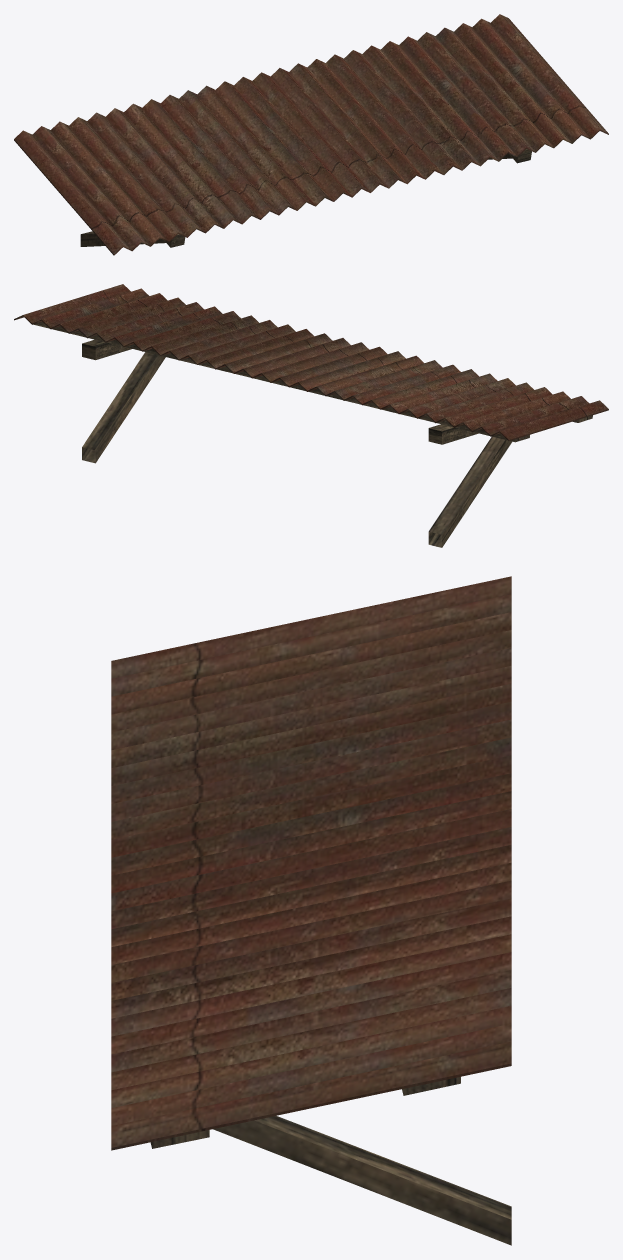
Rendered from roof_small_hr_1.obj.
3 renders of one model, top to bottom at view 1: azimuth 30°, elevation 25°; view 2: azimuth 150°, elevation 25°; view 3: azimuth 270°, elevation 25°, orthographic. The views are drawn at different scales.
Parts seen in each view (by area): view 1: roof_small_hr_1; view 2: roof_small_hr_1; view 3: roof_small_hr_1.
Part boxes in pixels (box(x1,y1,x2,y2)): roof_small_hr_1: box(14, 14, 608, 255); roof_small_hr_1: box(14, 284, 608, 547); roof_small_hr_1: box(111, 576, 511, 1245).
Size of the model in its own units: 4 by 1.01 by 1.4.
